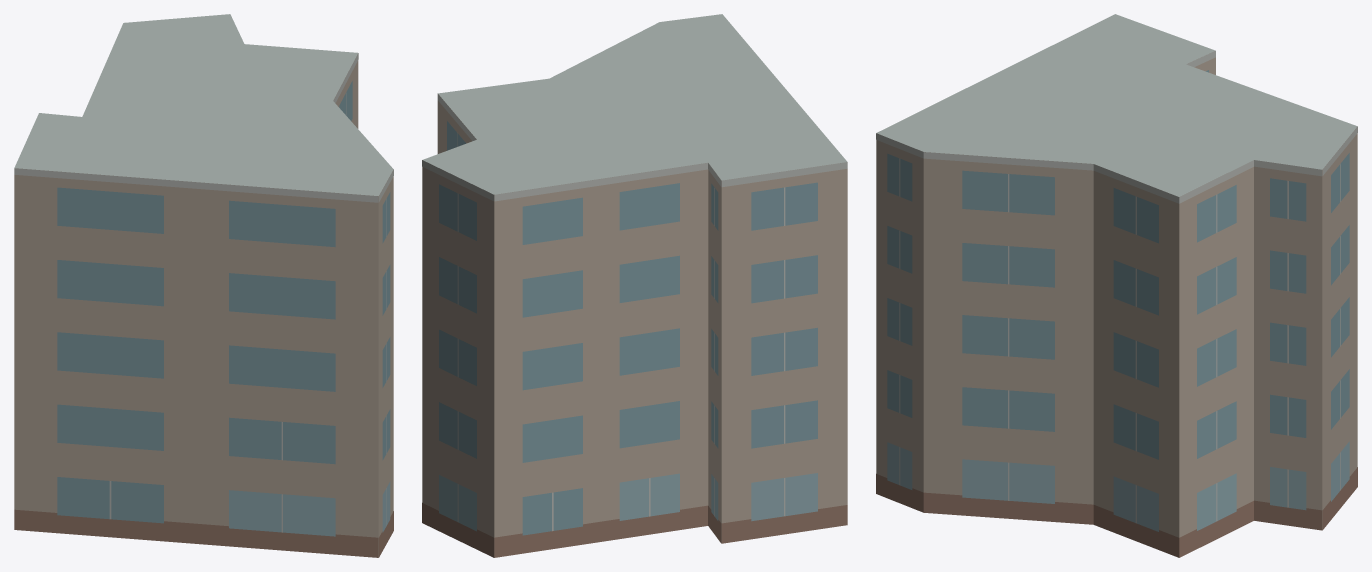
The model's file is survey-upis-32504716.glb.
3 views of the same model, side by side, from view 1: azimuth 30°, elevation 25°; view 2: azimuth 150°, elevation 25°; view 3: azimuth 270°, elevation 25° (orthographic).
Parts seen in each view (by area): view 1: survey-upis-32504716.tmp; view 2: survey-upis-32504716.tmp; view 3: survey-upis-32504716.tmp.
Boxes of the visible parts, x1,y1,x2,y2 form: survey-upis-32504716.tmp: (14,14,393,557); survey-upis-32504716.tmp: (422,14,847,557); survey-upis-32504716.tmp: (876,14,1357,557).
Size of the model in its own units: 14.38 by 13.2 by 15.98.
